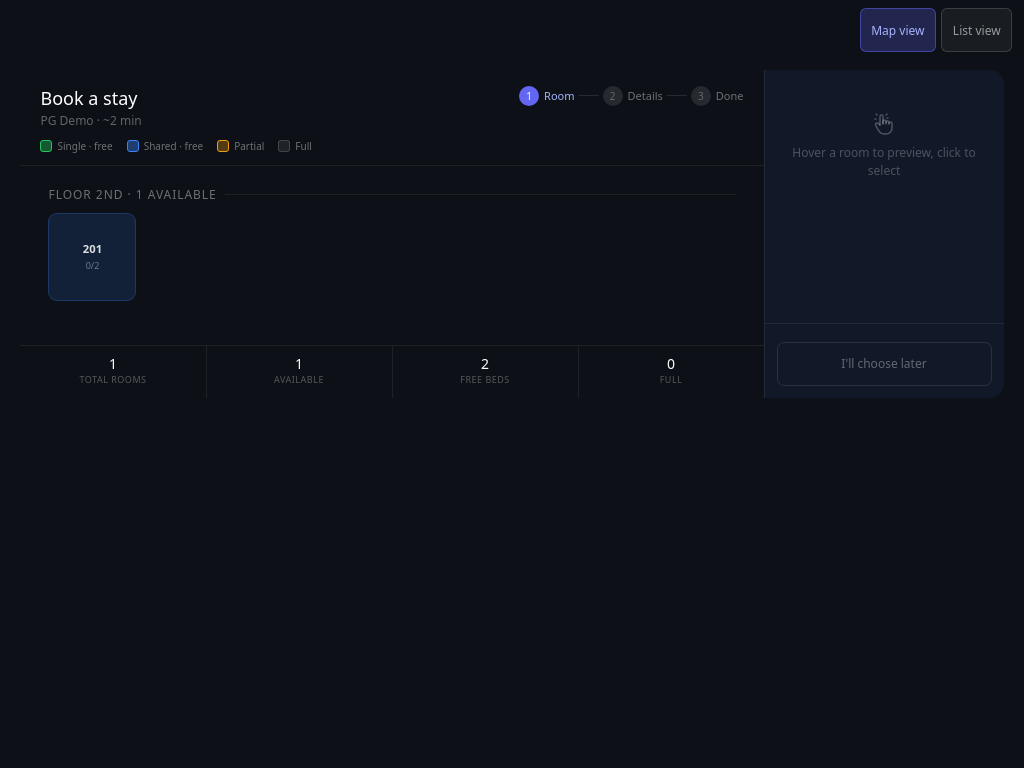
PublicBookingPage › switches to list view
Click the button "List view" at (977, 30), box [942,8,1012,52]
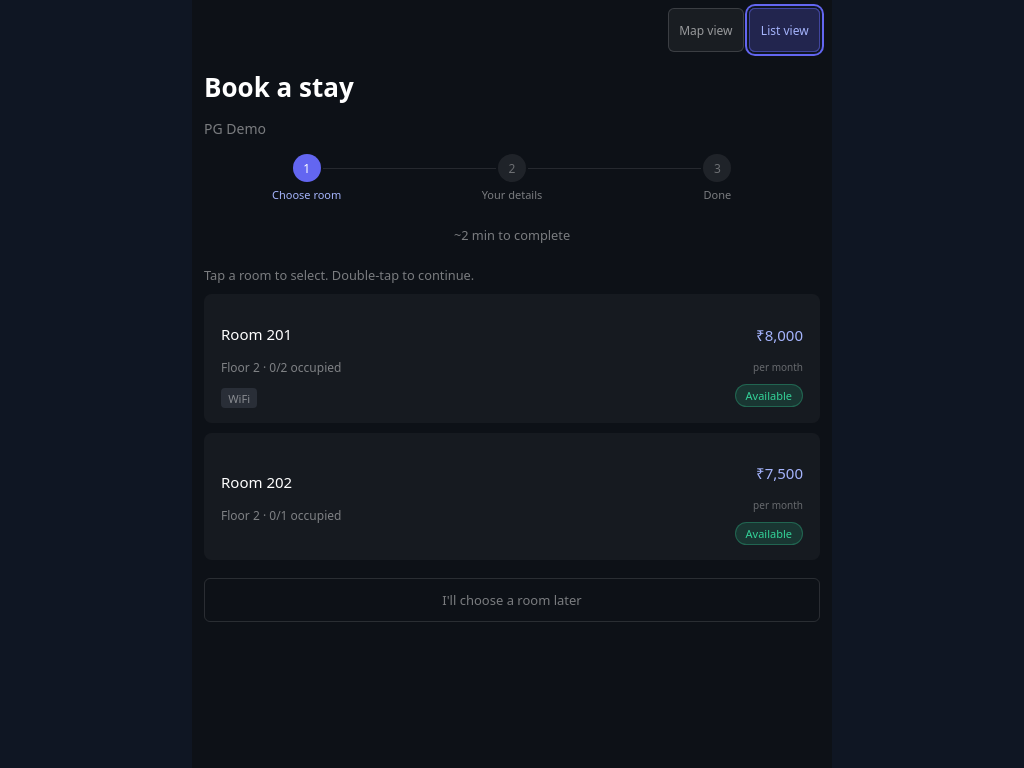
expect the button "Room 201" is shown: met, box [204,294,820,423]
